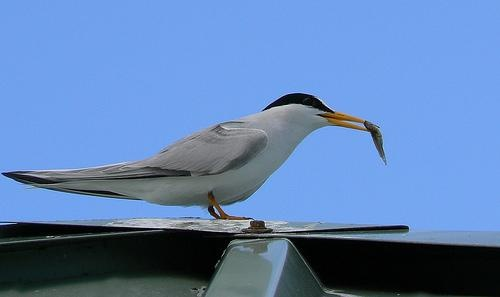bird: (8, 87, 367, 226)
